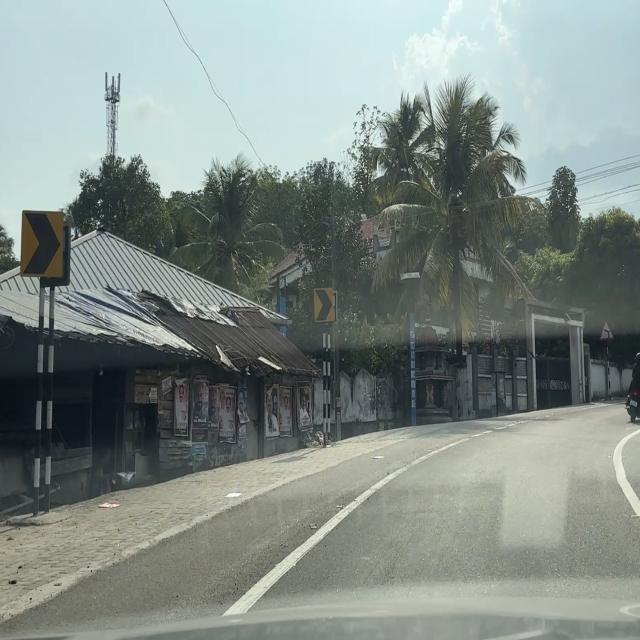LEFT_TURN_AHEAD: (598, 321, 614, 340)
TURN_RIGHT: (20, 209, 64, 279), (312, 286, 337, 324)
